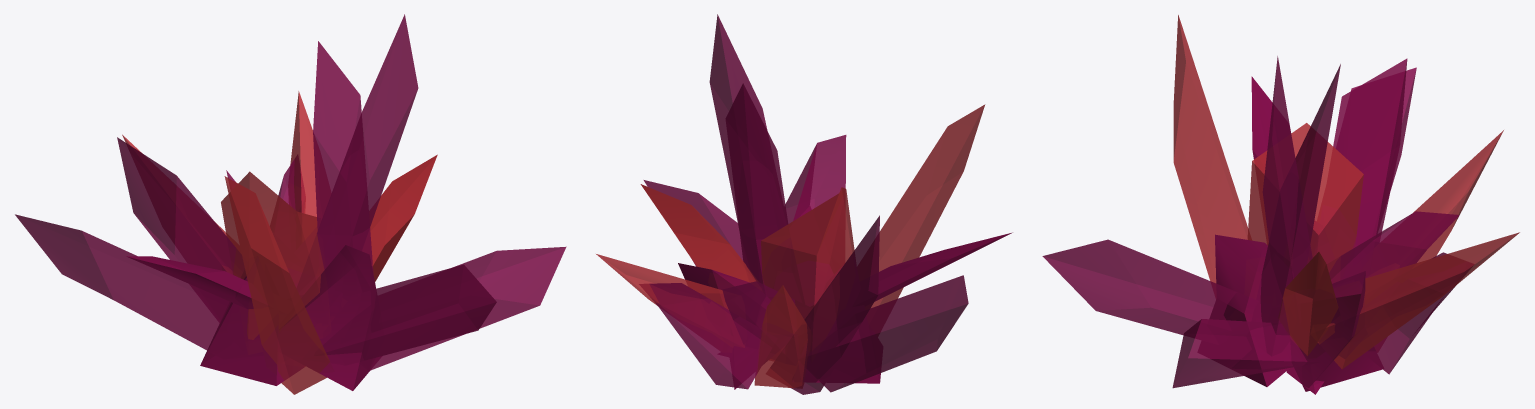
File: Shards03.fbx
The picture shows the model from 3 angles, left to right: view 1: azimuth 30°, elevation 25°; view 2: azimuth 150°, elevation 25°; view 3: azimuth 270°, elevation 25°; orthographic projection. The views are drawn at different scales.
Visible parts, largest first — view 1: polySurface1; view 2: polySurface1; view 3: polySurface1.
Boxes of the visible parts, box(x1,y1,x2,y2) form: polySurface1: box(15, 14, 566, 394); polySurface1: box(596, 14, 1012, 394); polySurface1: box(1042, 15, 1519, 394).
Bounding box in the file's own units: 19.86 × 14.61 × 17.69.
